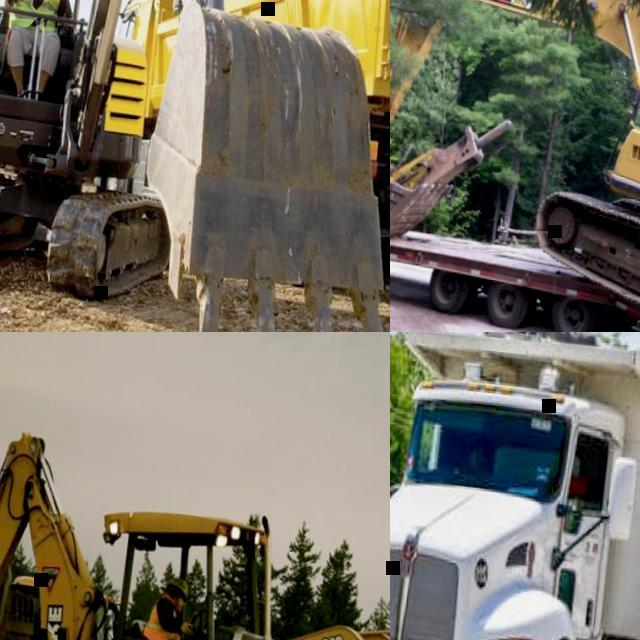helmet: (168, 574, 190, 595)
vest: (141, 590, 185, 640)
